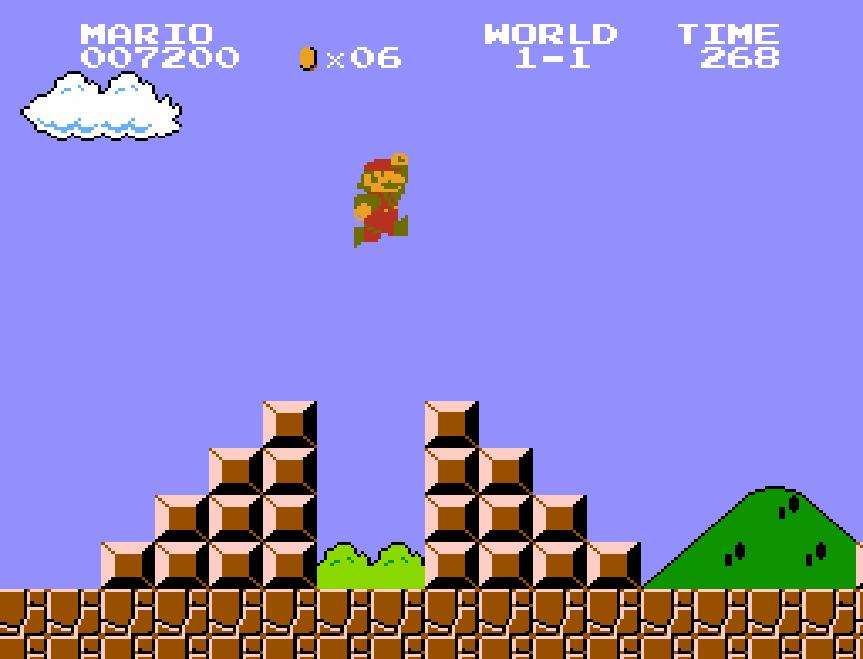big_mario: (352, 150, 410, 249)
